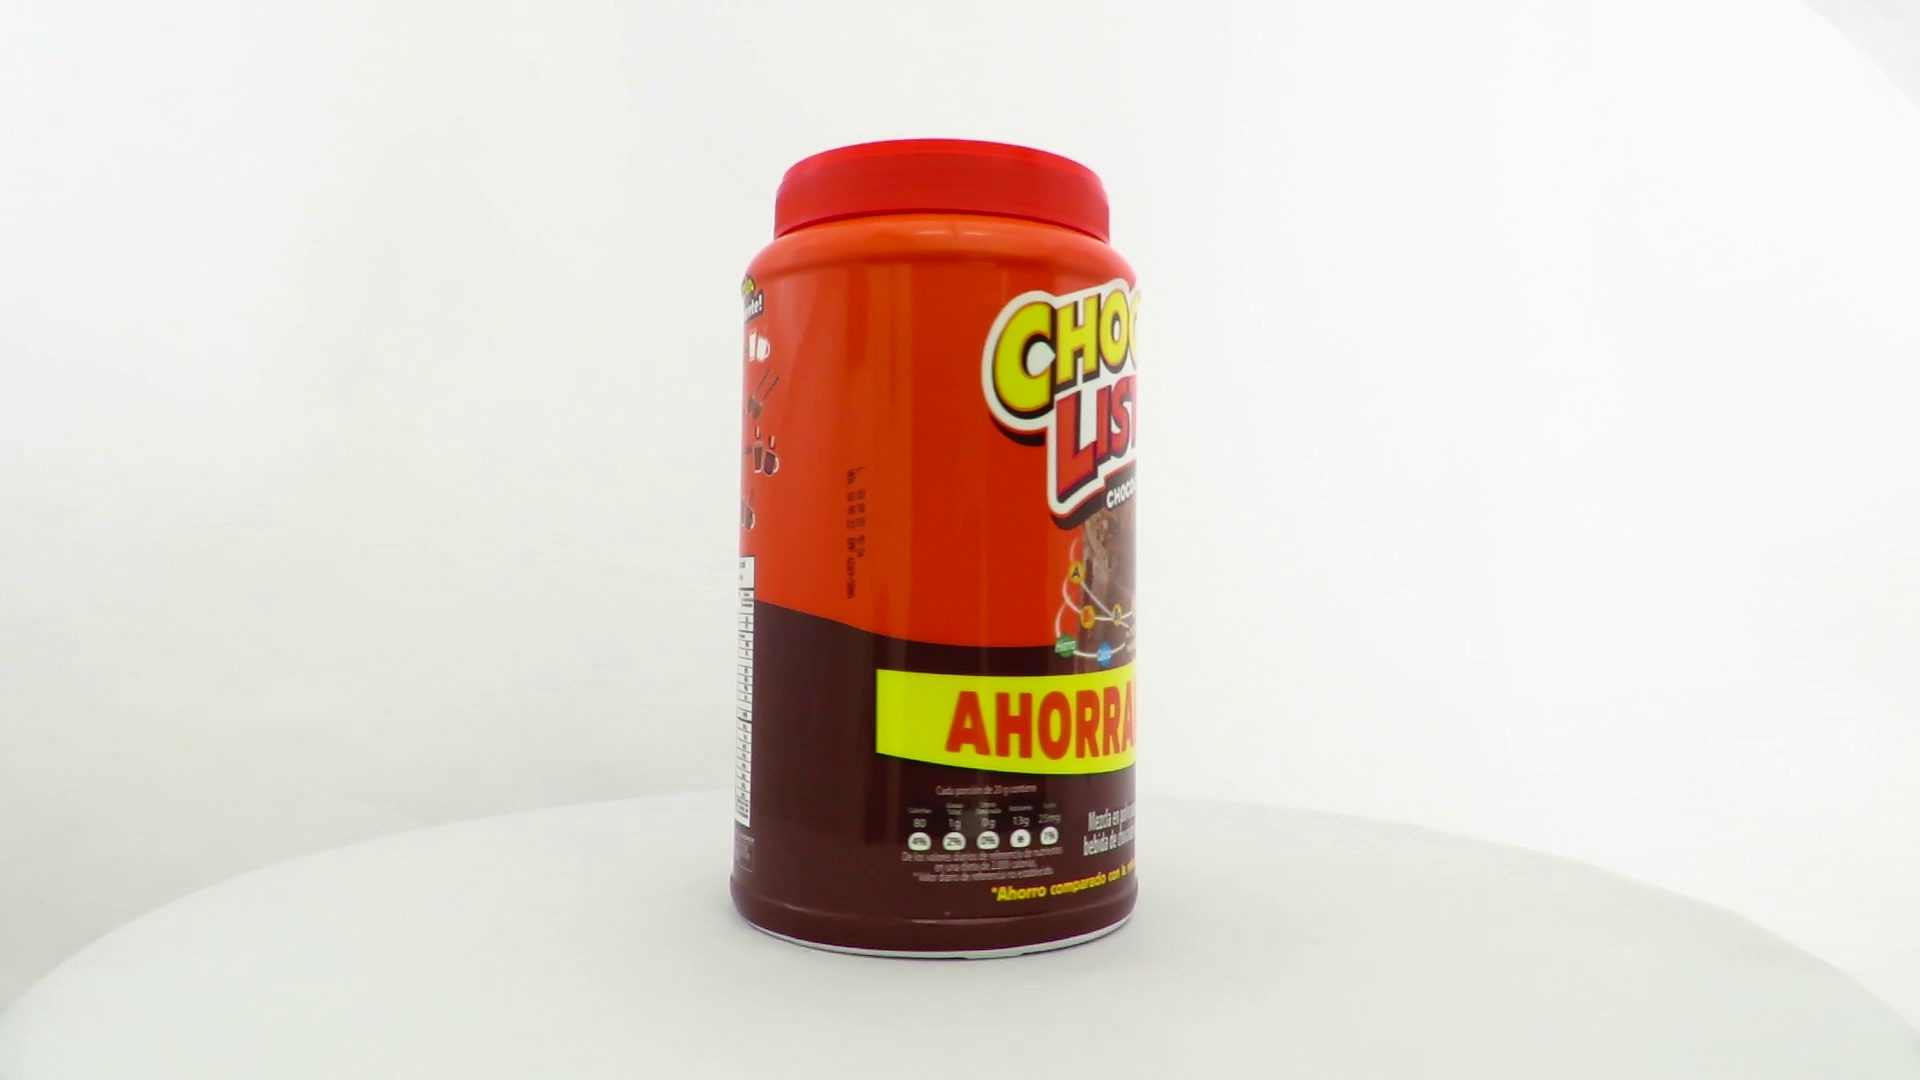COL0170103TRR00100: (724, 133, 1145, 967)
